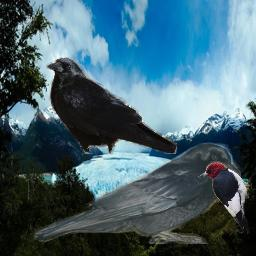Crow: (32, 142, 241, 244), (45, 57, 177, 154)
Woodpecker: (195, 161, 253, 234)
